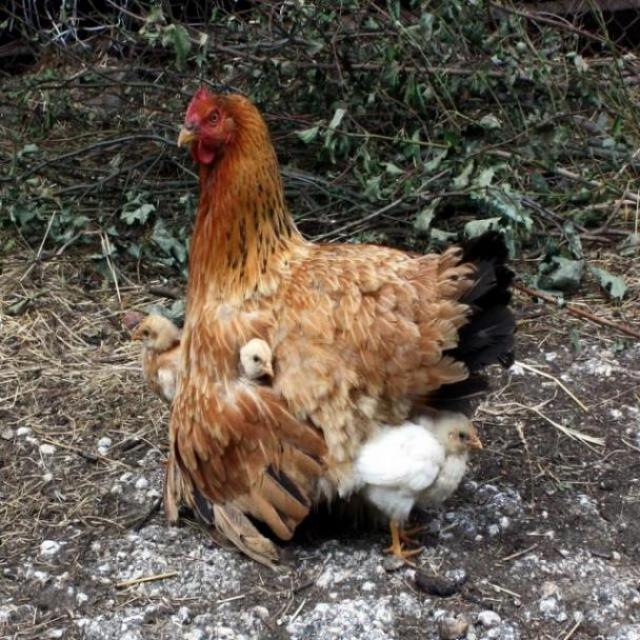Chicken: (184, 85, 509, 533), (311, 406, 481, 568), (132, 315, 185, 409)
